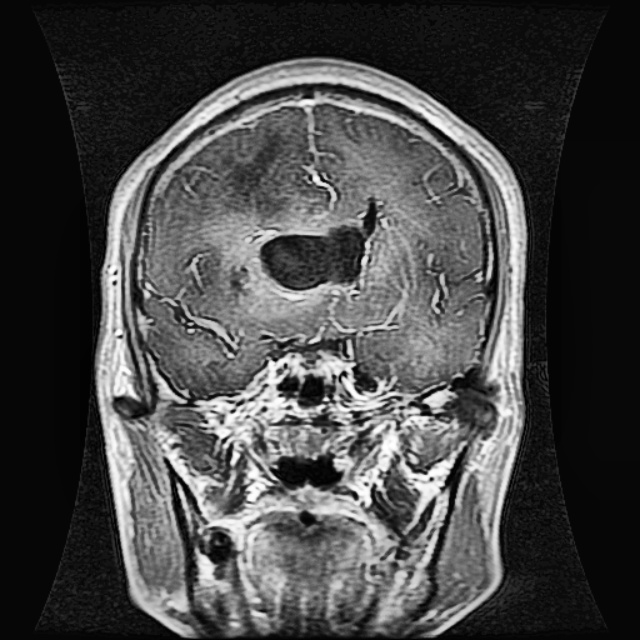Meningioma: (260, 188, 382, 289)
